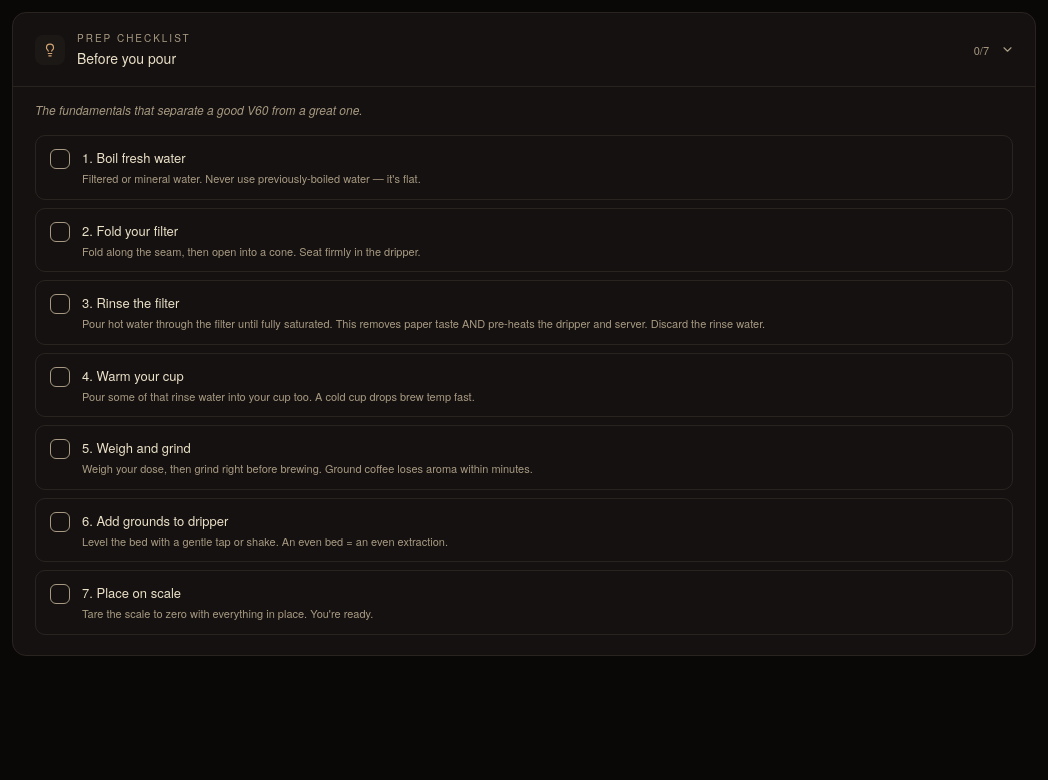
Test: PrepChecklist › marks a step as checked when clicked
Click the button that starts with "Boil fresh water".
click(141, 158)  # box [35,135,1013,200]
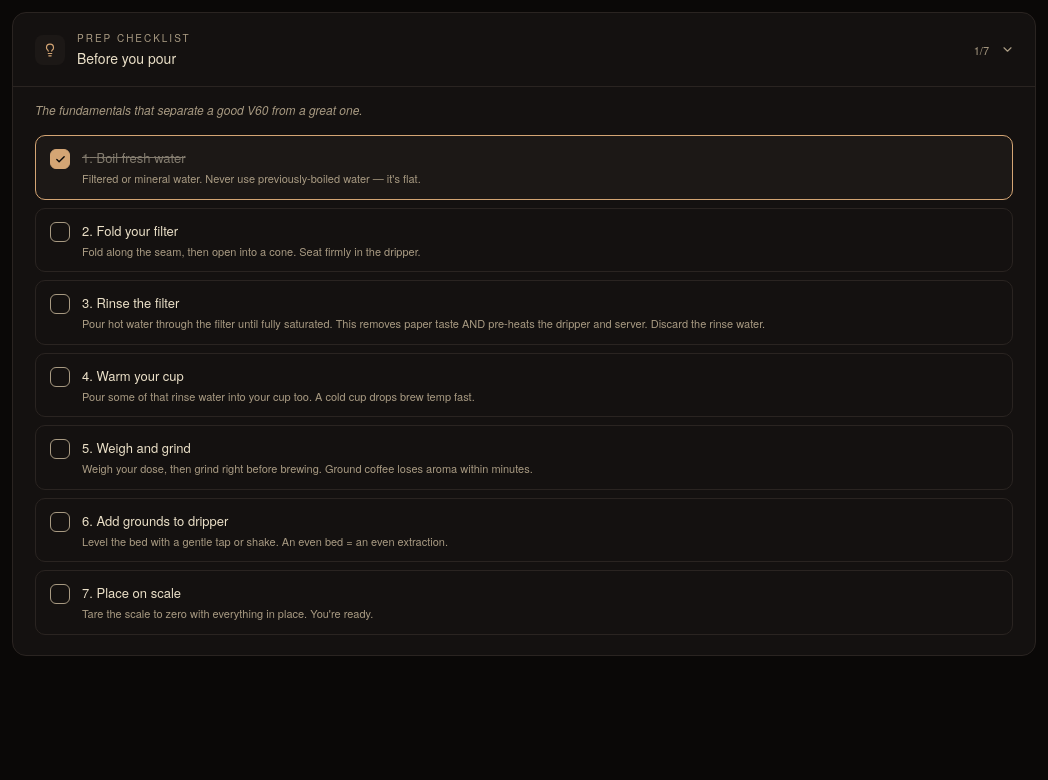
Check: the text "1/7" is shown, box [974,42,989,58]
